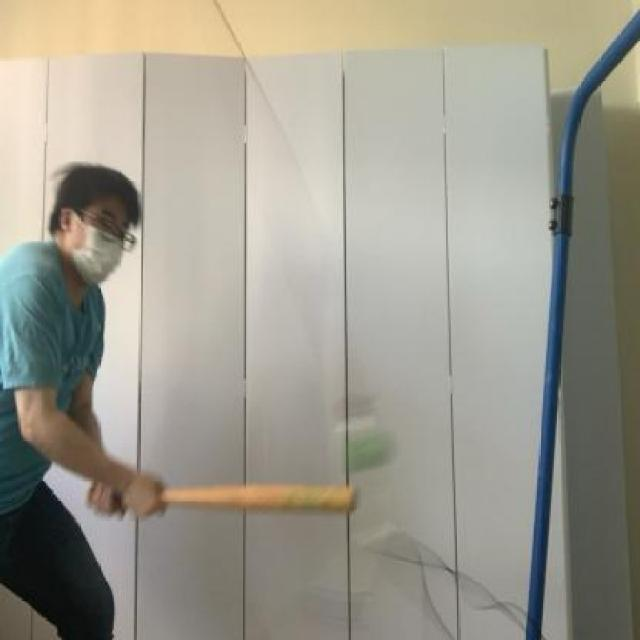baseball: (334, 419, 406, 487)
